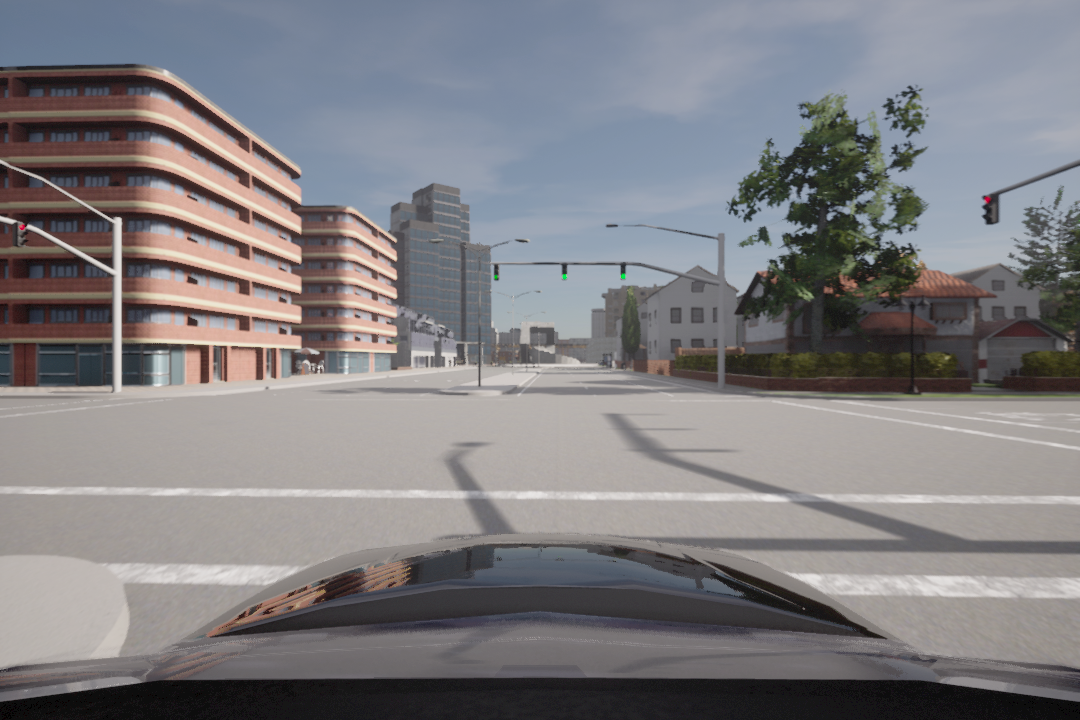TrafficLight: (979, 188, 1001, 226), (15, 221, 30, 249), (617, 258, 627, 281), (496, 263, 504, 288), (560, 261, 568, 281)
